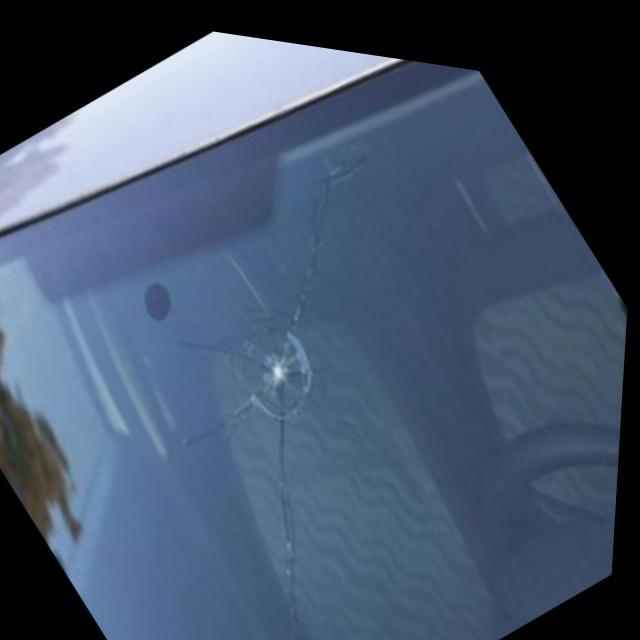glass shatter: (231, 314, 318, 414)
